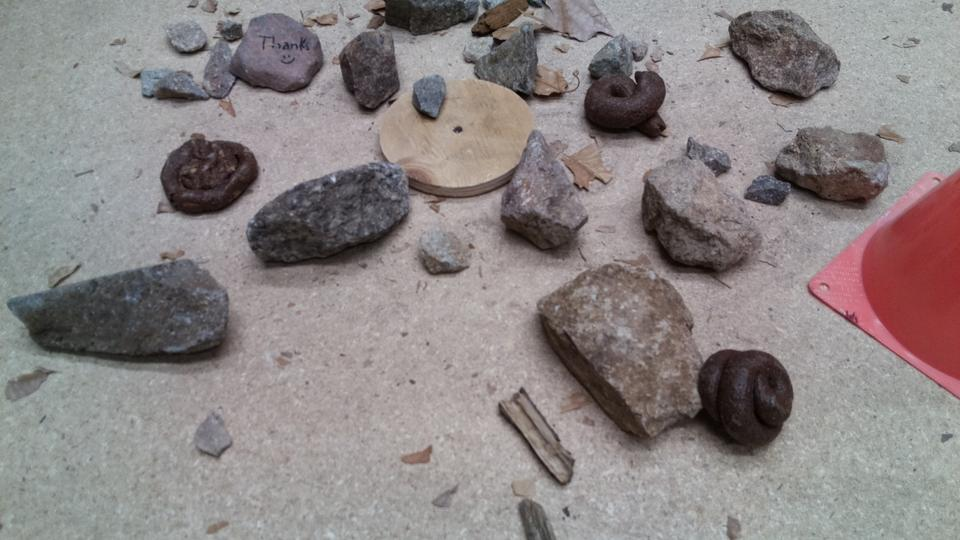poop: (697, 347, 796, 450), (159, 135, 259, 216), (583, 69, 671, 141)
